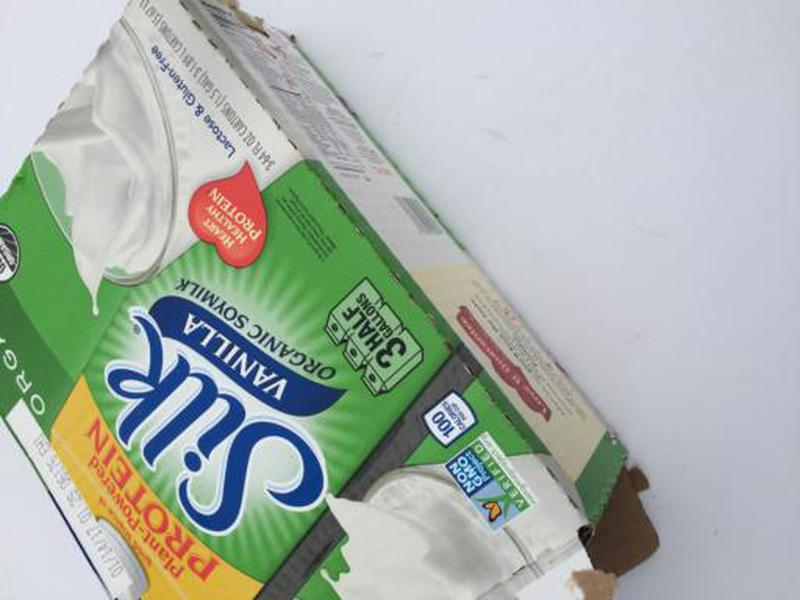cardboard: (1, 1, 671, 600)
